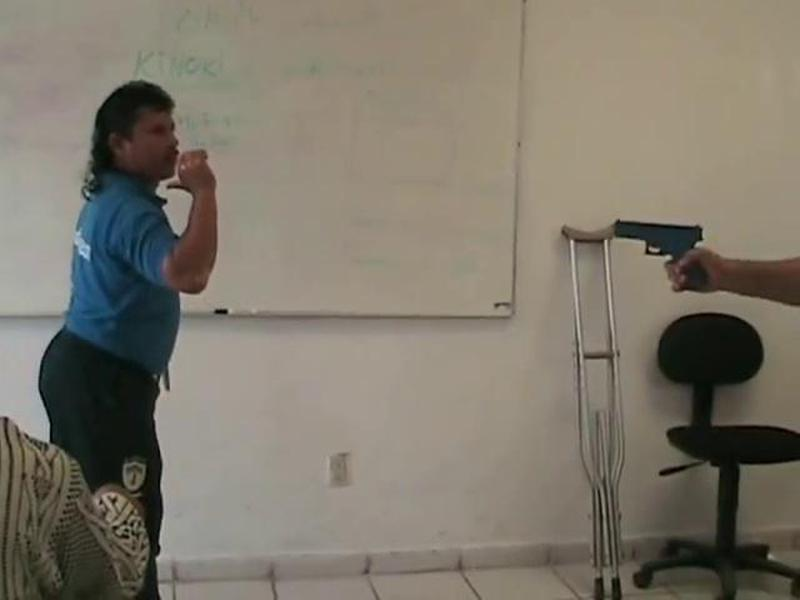Pistola: (608, 210, 708, 273)
